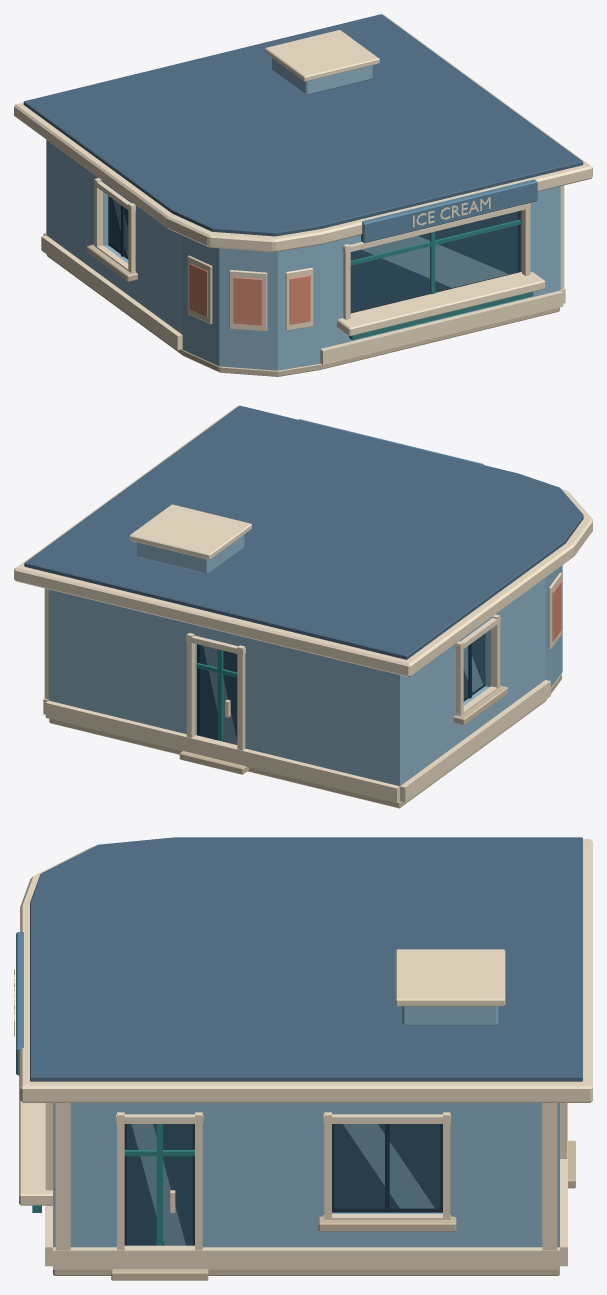
File: ice_cream_shop.glb
The picture shows the model from 3 angles, top to bottom: view 1: azimuth 30°, elevation 25°; view 2: azimuth 150°, elevation 25°; view 3: azimuth 270°, elevation 25°; orthographic projection. The views are drawn at different scales.
Parts seen in each view (by area): view 1: IceCreamShop_StaticMesh; view 2: IceCreamShop_StaticMesh; view 3: IceCreamShop_StaticMesh.
Part boxes in pixels (x1,y1,x2,y2): IceCreamShop_StaticMesh: (14, 14, 592, 376); IceCreamShop_StaticMesh: (14, 405, 592, 808); IceCreamShop_StaticMesh: (14, 837, 592, 1280).
Bounding box in the file's own units: 8.59 × 3.87 × 8.45.
